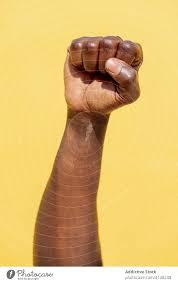Raised-Fist: (54, 33, 149, 167)
